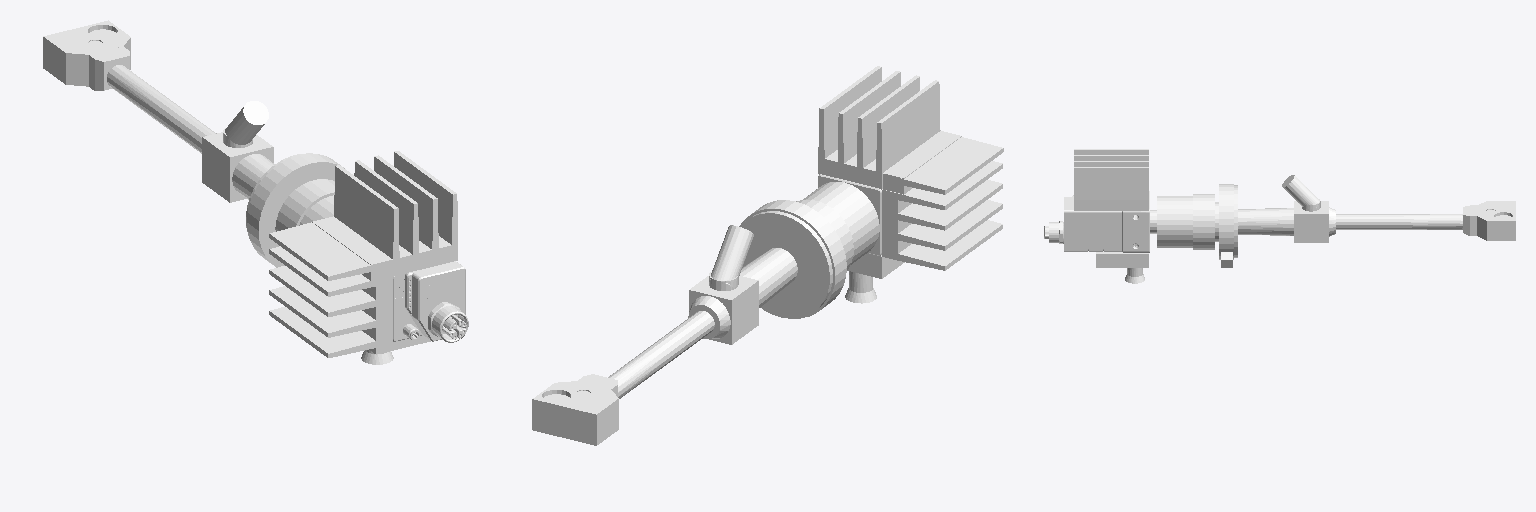
--- Facts derived from the render (not from the file) ---
Views: 3 orthographic renders of the robot side by side, from view 1: azimuth 30°, elevation 25°; view 2: azimuth 150°, elevation 25°; view 3: azimuth 270°, elevation 25°.
Robot: photonfocus_camera — 18 links, 17 joints (7 revolute, 10 fixed); root link world; default pose: all joints at 0.
Links seen in each view (by area): view 1: lbr_link_1, lbr_link_2; view 2: lbr_link_1, lbr_link_2; view 3: lbr_link_2, lbr_link_1.
Link boxes in pixels (x1,y1,x2,y2): lbr_link_1: (269, 151, 468, 364); lbr_link_2: (43, 20, 344, 267); lbr_link_1: (818, 66, 1003, 303); lbr_link_2: (532, 182, 879, 445); lbr_link_2: (1150, 175, 1515, 267); lbr_link_1: (1044, 149, 1149, 283).
Bounding box of the posed robot: 71.66 × 297 × 143 m (x, y, z).
10 mesh visuals loaded from 16 distinct referenced files (10 binary STL); not drawn: 6 (reference not matched to a file when rendering).

robot.urdf — photonfocus_camera:
<?xml version="1.0" ?>
<!-- =================================================================================== -->
<!-- |    This document was autogenerated by xacro from [local-path]/fri_ros_ws/src/HSI/med7PF_description/urdf/lbr_photonfocus_camera.urdf.xacro | -->
<!-- |    EDITING THIS FILE BY HAND IS NOT RECOMMENDED                                 | -->
<!-- =================================================================================== -->
<!-- Here we define the robot, we named it "photonfocus_camera" -->
<robot name="photonfocus_camera">
  <material name="silver">
    <color rgba="0.700 0.700 0.700 1.000"/>
  </material>
  <gazebo>
    <plugin filename="libgazebo_ros_control.so" name="control"/>
  </gazebo>
  <gazebo reference="base_link">
    <material>Gazebo/Silver</material>
    <mu1>0.2</mu1>
    <mu2>0.2</mu2>
    <selfCollide>true</selfCollide>
    <gravity>true</gravity>
  </gazebo>
  <gazebo reference="Component8_1_1_1_1">
    <material>Gazebo/Silver</material>
    <mu1>0.2</mu1>
    <mu2>0.2</mu2>
    <selfCollide>true</selfCollide>
  </gazebo>
  <gazebo reference="Component7_1_1_1_1">
    <material>Gazebo/Silver</material>
    <mu1>0.2</mu1>
    <mu2>0.2</mu2>
    <selfCollide>true</selfCollide>
  </gazebo>
  <gazebo reference="Component6_1_1_1_1">
    <material>Gazebo/Silver</material>
    <mu1>0.2</mu1>
    <mu2>0.2</mu2>
    <selfCollide>true</selfCollide>
  </gazebo>
  <gazebo reference="Component2_1_1_1_1">
    <material>Gazebo/Silver</material>
    <mu1>0.2</mu1>
    <mu2>0.2</mu2>
    <selfCollide>true</selfCollide>
  </gazebo>
  <gazebo reference="Component3_1_1_1_1">
    <material>Gazebo/Silver</material>
    <mu1>0.2</mu1>
    <mu2>0.2</mu2>
    <selfCollide>true</selfCollide>
  </gazebo>
  <gazebo reference="Component4_1_1_1_1">
    <material>Gazebo/Silver</material>
    <mu1>0.2</mu1>
    <mu2>0.2</mu2>
    <selfCollide>true</selfCollide>
  </gazebo>
  <gazebo reference="Component5_1_1_1_1">
    <material>Gazebo/Silver</material>
    <mu1>0.2</mu1>
    <mu2>0.2</mu2>
    <selfCollide>true</selfCollide>
  </gazebo>
  <!-- fix to world -->
  <link name="world"/>
  <!--joint between {parent} and link_0-->
  <joint name="world_lbr_joint" type="fixed">
    <origin rpy="0 0 0" xyz="0 0 0"/>
    <parent link="world"/>
    <child link="lbr_link_0"/>
  </joint>
  <link name="lbr_link_0">
    <inertial>
      <origin rpy="0 0 0" xyz="-0.0018958727522859222 -8.736009549202623e-09 0.07626305487275586"/>
      <mass value="46.20540698229506"/>
      <inertia ixx="0.250291" ixy="-0.0" ixz="-0.004435" iyy="0.255257" iyz="-0.0" izz="0.351803"/>
    </inertial>
    <visual>
      <origin rpy="0 0 0" xyz="0 0 0"/>
      <geometry>
        <mesh filename="package://lbr_description/meshes/med7/visual/link_0.stl"/>
      </geometry>
      <material name="white">
        <color rgba="1.0 1.0 1.0 1.0"/>
      </material>
    </visual>
    <collision>
      <origin rpy="0 0 0" xyz="0 0 0"/>
      <geometry>
        <mesh filename="package://lbr_description/meshes/med7/collision/link_0.stl"/>
      </geometry>
    </collision>
  </link>
  <joint name="lbr_joint_1" type="revolute">
    <origin rpy="0 0 0" xyz="0.0 0.0 0.1475"/>
    <parent link="lbr_link_0"/>
    <child link="lbr_link_1"/>
    <axis xyz="0.0 0.0 0.01"/>
    <limit effort="300" lower="-2.9670597283903604" upper="2.9670597283903604" velocity="10"/>
    <safety_controller k_position="100" k_velocity="2" soft_lower_limit="-2.9321531433504737" soft_upper_limit="2.9321531433504737"/>
    <dynamics damping="0.5"/>
  </joint>
  <link name="lbr_link_1">
    <inertial>
      <origin rpy="0 0 0" xyz="5.010328793588479e-08 -0.03481903813472808 0.12329857163085542"/>
      <mass value="21.161828997118327"/>
      <inertia ixx="0.133324" ixy="-0.0" ixz="0.0" iyy="0.127214" iyz="0.023673" izz="0.047155"/>
    </inertial>
    <visual>
      <origin rpy="0 0 0" xyz="-0.0 0.0 -0.1475"/>
      <geometry>
        <mesh filename="package://lbr_description/meshes/med7/visual/link_1.stl"/>
      </geometry>
      <material name="white">
        <color rgba="1.0 1.0 1.0 1.0"/>
      </material>
    </visual>
    <collision>
      <origin rpy="0 0 0" xyz="-0.0 0.0 -0.1475"/>
      <geometry>
        <mesh filename="package://lbr_description/meshes/med7/collision/link_1.stl"/>
      </geometry>
    </collision>
  </link>
  <joint name="lbr_joint_2" type="revolute">
    <origin rpy="0 0 0" xyz="-0.0 -0.0105 0.1925"/>
    <parent link="lbr_link_1"/>
    <child link="lbr_link_2"/>
    <axis xyz="0.0 0.01 0.0"/>
    <limit effort="300" lower="-2.0943951023931953" upper="2.0943951023931953" velocity="10"/>
    <safety_controller k_position="100" k_velocity="2" soft_lower_limit="-2.0594885173533086" soft_upper_limit="2.0594885173533086"/>
    <dynamics damping="0.5"/>
  </joint>
  <link name="lbr_link_2">
    <inertial>
      <origin rpy="0 0 0" xyz="2.958275959973659e-08 0.03979295468456965 0.08694361150855662"/>
      <mass value="25.13966081800886"/>
      <inertia ixx="0.19763" ixy="-0.0" ixz="0.0" iyy="0.187553" iyz="0.036718" izz="0.060269"/>
    </inertial>
    <visual>
      <origin rpy="0 0 0" xyz="0.0 0.0105 -0.34"/>
      <geometry>
        <mesh filename="package://lbr_description/meshes/med7/visual/link_2.stl"/>
      </geometry>
      <material name="white">
        <color rgba="1.0 1.0 1.0 1.0"/>
      </material>
    </visual>
    <collision>
      <origin rpy="0 0 0" xyz="0.0 0.0105 -0.34"/>
      <geometry>
        <mesh filename="package://lbr_description/meshes/med7/collision/link_2.stl"/>
      </geometry>
    </collision>
  </link>
  <joint name="lbr_joint_3" type="revolute">
    <origin rpy="0 0 0" xyz="0.0 0.0105 0.2075"/>
    <parent link="lbr_link_2"/>
    <child link="lbr_link_3"/>
    <axis xyz="0.0 0.0 0.01"/>
    <limit effort="300" lower="-2.9670597283903604" upper="2.9670597283903604" velocity="10"/>
    <safety_controller k_position="100" k_velocity="2" soft_lower_limit="-2.9321531433504737" soft_upper_limit="2.9321531433504737"/>
    <dynamics damping="0.5"/>
  </joint>
  <link name="lbr_link_3">
    <inertial>
      <origin rpy="0 0 0" xyz="-5.010330962930412e-08 0.03481903813473644 0.1232985716309013"/>
      <mass value="21.1618289971097"/>
      <inertia ixx="0.133324" ixy="-0.0" ixz="-0.0" iyy="0.127214" iyz="-0.023673" izz="0.047155"/>
    </inertial>
    <visual>
      <origin rpy="0 0 0" xyz="0.0 -0.0 -0.5475"/>
      <geometry>
        <mesh filename="package://lbr_description/meshes/med7/visual/link_3.stl"/>
      </geometry>
      <material name="white">
        <color rgba="1.0 1.0 1.0 1.0"/>
      </material>
    </visual>
    <collision>
      <origin rpy="0 0 0" xyz="0.0 -0.0 -0.5475"/>
      <geometry>
        <mesh filename="package://lbr_description/meshes/med7/collision/link_3.stl"/>
      </geometry>
    </collision>
  </link>
  <joint name="lbr_joint_4" type="revolute">
    <origin rpy="0 0 0" xyz="0.0 0.0105 0.1925"/>
    <parent link="lbr_link_3"/>
    <child link="lbr_link_4"/>
    <axis xyz="0.0 -0.01 0.0"/>
    <limit effort="300" lower="-2.0943951023931953" upper="2.0943951023931953" velocity="10"/>
    <safety_controller k_position="100" k_velocity="2" soft_lower_limit="-2.0594885173533086" soft_upper_limit="2.0594885173533086"/>
    <dynamics damping="0.5"/>
  </joint>
  <link name="lbr_link_4">
    <inertial>
      <origin rpy="0 0 0" xyz="-3.025230048709993e-08 -0.03979329512443697 0.08694363375610437"/>
      <mass value="25.139648831600116"/>
      <inertia ixx="0.197618" ixy="-0.0" ixz="-0.0" iyy="0.187546" iyz="-0.036716" izz="0.060263"/>
    </inertial>
    <visual>
      <origin rpy="0 0 0" xyz="-0.0 -0.0105 -0.74"/>
      <geometry>
        <mesh filename="package://lbr_description/meshes/med7/visual/link_4.stl"/>
      </geometry>
      <material name="white">
        <color rgba="1.0 1.0 1.0 1.0"/>
      </material>
    </visual>
    <collision>
      <origin rpy="0 0 0" xyz="-0.0 -0.0105 -0.74"/>
      <geometry>
        <mesh filename="package://lbr_description/meshes/med7/collision/link_4.stl"/>
      </geometry>
    </collision>
  </link>
  <joint name="lbr_joint_5" type="revolute">
    <origin rpy="0 0 0" xyz="-0.0 -0.0105 0.2075"/>
    <parent link="lbr_link_4"/>
    <child link="lbr_link_5"/>
    <axis xyz="0.0 0.0 0.01"/>
    <limit effort="300" lower="-2.9670597283903604" upper="2.9670597283903604" velocity="10"/>
    <safety_controller k_position="100" k_velocity="2" soft_lower_limit="-2.9321531433504737" soft_upper_limit="2.9321531433504737"/>
    <dynamics damping="0.5"/>
  </joint>
  <link name="lbr_link_5">
    <inertial>
      <origin rpy="0 0 0" xyz="3.887174133882675e-08 -0.02982428408876193 0.07626701716135398"/>
      <mass value="9.534880920206515"/>
      <inertia ixx="0.052905" ixy="0.0" ixz="-0.0" iyy="0.044495" iyz="0.017493" izz="0.023991"/>
    </inertial>
    <visual>
      <origin rpy="0 0 0" xyz="0.0 0.0 -0.9475"/>
      <geometry>
        <mesh filename="package://lbr_description/meshes/med7/visual/link_5.stl"/>
      </geometry>
      <material name="white">
        <color rgba="1.0 1.0 1.0 1.0"/>
      </material>
    </visual>
    <collision>
      <origin rpy="0 0 0" xyz="0.0 0.0 -0.9475"/>
      <geometry>
        <mesh filename="package://lbr_description/meshes/med7/collision/link_5.stl"/>
      </geometry>
    </collision>
  </link>
  <joint name="lbr_joint_6" type="revolute">
    <origin rpy="0 0 0" xyz="0.0 -0.0707 0.1925"/>
    <parent link="lbr_link_5"/>
    <child link="lbr_link_6"/>
    <axis xyz="0.0 0.01 0.0"/>
    <limit effort="300" lower="-2.0943951023931953" upper="2.0943951023931953" velocity="10"/>
    <safety_controller k_position="100" k_velocity="2" soft_lower_limit="-2.0594885173533086" soft_upper_limit="2.0594885173533086"/>
    <dynamics damping="0.5"/>
  </joint>
  <link name="lbr_link_6">
    <inertial>
      <origin rpy="0 0 0" xyz="-7.073221144775636e-07 0.07101990943401648 0.004952526180360017"/>
      <mass value="14.987109331100873"/>
      <inertia ixx="0.044068" ixy="-0.0" ixz="1e-06" iyy="0.042427" iyz="0.001941" izz="0.028865"/>
    </inertial>
    <visual>
      <origin rpy="0 0 0" xyz="0.0 0.0707 -1.14"/>
      <geometry>
        <mesh filename="package://lbr_description/meshes/med7/visual/link_6.stl"/>
      </geometry>
      <material name="white">
        <color rgba="1.0 1.0 1.0 1.0"/>
      </material>
    </visual>
    <collision>
      <origin rpy="0 0 0" xyz="0.0 0.0707 -1.14"/>
      <geometry>
        <mesh filename="package://lbr_description/meshes/med7/collision/link_6.stl"/>
      </geometry>
    </collision>
  </link>
  <joint name="lbr_joint_7" type="revolute">
    <origin rpy="0 0 0" xyz="0.0 0.0707 0.091"/>
    <parent link="lbr_link_6"/>
    <child link="lbr_link_7"/>
    <axis xyz="0.0 0.0 0.01"/>
    <limit effort="300" lower="-3.0543261909900763" upper="3.0543261909900763" velocity="10"/>
    <safety_controller k_position="100" k_velocity="2" soft_lower_limit="-3.01941960595019" soft_upper_limit="3.01941960595019"/>
    <dynamics damping="0.5"/>
  </joint>
  <link name="lbr_link_7">
    <inertial>
      <origin rpy="0 0 0" xyz="3.1218274599808524e-06 -1.6358155634513969e-06 0.013782295521067356"/>
      <mass value="1.6178339975962697"/>
      <inertia ixx="0.001066" ixy="0.0" ixz="-0.0" iyy="0.001066" iyz="0.0" izz="0.001864"/>
    </inertial>
    <visual>
      <origin rpy="0 0 0" xyz="-0.0 -0.0 -1.231"/>
      <geometry>
        <mesh filename="package://lbr_description/meshes/med7/visual/link_7.stl"/>
      </geometry>
      <material name="silver">
        <color rgba="0.7 0.7 0.7 1.0"/>
      </material>
    </visual>
    <collision>
      <origin rpy="0 0 0" xyz="-0.0 -0.0 -1.231"/>
      <geometry>
        <mesh filename="package://lbr_description/meshes/med7/collision/link_7.stl"/>
      </geometry>
    </collision>
  </link>
  <joint name="lbr_joint_ee" type="fixed">
    <parent link="lbr_link_7"/>
    <child link="lbr_link_ee"/>
    <origin rpy="0 0 0" xyz="0 0 0.035"/>
  </joint>
  <link name="lbr_link_ee">
        </link>
  <!-- ros_control-plugin -->
  <gazebo>
    <plugin filename="libgazebo_ros_control.so" name="gazebo_ros_control">
      <robotNamespace>/lbr</robotNamespace>
    </plugin>
  </gazebo>
  <!-- link 0 -->
  <gazebo reference="lbr_link_0">
    <mu1>0.2</mu1>
    <mu2>0.2</mu2>
    <material>Gazebo/White</material>
  </gazebo>
  <!-- link 1 -->
  <gazebo reference="lbr_link_1">
    <mu1>0.2</mu1>
    <mu2>0.2</mu2>
    <material>Gazebo/White</material>
  </gazebo>
  <!-- link 2 -->
  <gazebo reference="lbr_link_2">
    <mu1>0.2</mu1>
    <mu2>0.2</mu2>
    <material>Gazebo/White</material>
  </gazebo>
  <!-- link 3 -->
  <gazebo reference="lbr_link_3">
    <mu1>0.2</mu1>
    <mu2>0.2</mu2>
    <material>Gazebo/White</material>
  </gazebo>
  <!-- link 4 -->
  <gazebo reference="lbr_link_4">
    <mu1>0.2</mu1>
    <mu2>0.2</mu2>
    <material>Gazebo/White</material>
  </gazebo>
  <!-- link 5 -->
  <gazebo reference="lbr_link_5">
    <mu1>0.2</mu1>
    <mu2>0.2</mu2>
    <material>Gazebo/White</material>
  </gazebo>
  <!-- link 6 -->
  <gazebo reference="lbr_link_6">
    <mu1>0.2</mu1>
    <mu2>0.2</mu2>
    <material>Gazebo/White</material>
  </gazebo>
  <!-- link 7 -->
  <gazebo reference="lbr_link_7">
    <mu1>0.2</mu1>
    <mu2>0.2</mu2>
    <material>Gazebo/Grey</material>
  </gazebo>
  <!-- joint 1 -->
  <transmission name="lbr_tran_1">
    <robotNamespace>/lbr</robotNamespace>
    <type>transmission_interface/SimpleTransmission</type>
    <joint name="lbr_joint_1">
      <hardwareInterface>hardware_interface/PositionJointInterface</hardwareInterface>
    </joint>
    <actuator name="lbr_motor_1">
      <hardwareInterface>hardware_interface/PositionJointInterface</hardwareInterface>
      <mechanicalReduction>1</mechanicalReduction>
    </actuator>
  </transmission>
  <!-- joint 2 -->
  <transmission name="lbr_tran_2">
    <robotNamespace>/lbr</robotNamespace>
    <type>transmission_interface/SimpleTransmission</type>
    <joint name="lbr_joint_2">
      <hardwareInterface>hardware_interface/PositionJointInterface</hardwareInterface>
    </joint>
    <actuator name="lbr_motor_2">
      <hardwareInterface>hardware_interface/PositionJointInterface</hardwareInterface>
      <mechanicalReduction>1</mechanicalReduction>
    </actuator>
  </transmission>
  <!-- joint 3 -->
  <transmission name="lbr_tran_3">
    <robotNamespace>/lbr</robotNamespace>
    <type>transmission_interface/SimpleTransmission</type>
    <joint name="lbr_joint_3">
      <hardwareInterface>hardware_interface/PositionJointInterface</hardwareInterface>
    </joint>
    <actuator name="lbr_motor_3">
      <hardwareInterface>hardware_interface/PositionJointInterface</hardwareInterface>
      <mechanicalReduction>1</mechanicalReduction>
    </actuator>
  </transmission>
  <!-- joint 4 -->
  <transmission name="lbr_tran_4">
    <robotNamespace>/lbr</robotNamespace>
    <type>transmission_interface/SimpleTransmission</type>
    <joint name="lbr_joint_4">
      <hardwareInterface>hardware_interface/PositionJointInterface</hardwareInterface>
    </joint>
    <actuator name="lbr_motor_4">
      <hardwareInterface>hardware_interface/PositionJointInterface</hardwareInterface>
      <mechanicalReduction>1</mechanicalReduction>
    </actuator>
  </transmission>
  <!-- joint 5 -->
  <transmission name="lbr_tran_5">
    <robotNamespace>/lbr</robotNamespace>
    <type>transmission_interface/SimpleTransmission</type>
    <joint name="lbr_joint_5">
      <hardwareInterface>hardware_interface/PositionJointInterface</hardwareInterface>
    </joint>
    <actuator name="lbr_motor_5">
      <hardwareInterface>hardware_interface/PositionJointInterface</hardwareInterface>
      <mechanicalReduction>1</mechanicalReduction>
    </actuator>
  </transmission>
  <!-- joint 6 -->
  <transmission name="lbr_tran_6">
    <robotNamespace>/lbr</robotNamespace>
    <type>transmission_interface/SimpleTransmission</type>
    <joint name="lbr_joint_6">
      <hardwareInterface>hardware_interface/PositionJointInterface</hardwareInterface>
    </joint>
    <actuator name="lbr_motor_6">
      <hardwareInterface>hardware_interface/PositionJointInterface</hardwareInterface>
      <mechanicalReduction>1</mechanicalReduction>
    </actuator>
  </transmission>
  <!-- joint 7 -->
  <transmission name="lbr_tran_7">
    <robotNamespace>/lbr</robotNamespace>
    <type>transmission_interface/SimpleTransmission</type>
    <joint name="lbr_joint_7">
      <hardwareInterface>hardware_interface/PositionJointInterface</hardwareInterface>
    </joint>
    <actuator name="lbr_motor_7">
      <hardwareInterface>hardware_interface/PositionJointInterface</hardwareInterface>
      <mechanicalReduction>1</mechanicalReduction>
    </actuator>
  </transmission>
  <link name="base_link">
    <inertial>
      <origin rpy="0 0 0" xyz="1.7763568394002505e-17 3.552713678800501e-17 0.0046742040606025685"/>
      <mass value="0.20307198484404515"/>
      <inertia ixx="4.8e-05" ixy="0.0" ixz="0.0" iyy="4.8e-05" iyz="0.0" izz="9.4e-05"/>
    </inertial>
    <visual>
      <origin rpy="0 0 0" xyz="0 0 0"/>
      <geometry>
        <mesh filename="package://photonfocus_camera_description/meshes/base_link.stl" scale="0.001 0.001 0.001"/>
      </geometry>
      <material name="silver"/>
    </visual>
    <collision>
      <origin rpy="0 0 0" xyz="0 0 0"/>
      <geometry>
        <mesh filename="package://photonfocus_camera_description/meshes/base_link.stl" scale="0.001 0.001 0.001"/>
      </geometry>
    </collision>
  </link>
  <link name="Component8_1_1_1_1">
    <inertial>
      <origin rpy="0 0 0" xyz="0.006675819379415325 -0.0009462499931954823 0.025261336246706647"/>
      <mass value="0.1997581385630358"/>
      <inertia ixx="4.8e-05" ixy="-0.0" ixz="-2e-06" iyy="5.1e-05" iyz="-0.0" izz="1.8e-05"/>
    </inertial>
    <visual>
      <origin rpy="0 0 0" xyz="0.005763 -0.000949 -0.009647"/>
      <geometry>
        <mesh filename="package://photonfocus_camera_description/meshes/Component8_1_1_1_1.stl" scale="0.001 0.001 0.001"/>
      </geometry>
      <material name="silver"/>
    </visual>
    <collision>
      <origin rpy="0 0 0" xyz="0.005763 -0.000949 -0.009647"/>
      <geometry>
        <mesh filename="package://photonfocus_camera_description/meshes/Component8_1_1_1_1.stl" scale="0.001 0.001 0.001"/>
      </geometry>
    </collision>
  </link>
  <link name="Component7_1_1_1_1">
    <inertial>
      <origin rpy="0 0 0" xyz="0.00576299999995598 -0.0009489999999999939 0.006999172477632563"/>
      <mass value="0.010061892950917101"/>
      <inertia ixx="0.0" ixy="0.0" ixz="-0.0" iyy="0.0" iyz="0.0" izz="0.0"/>
    </inertial>
    <visual>
      <origin rpy="0 0 0" xyz="0.005763 -0.000949 -0.059647"/>
      <geometry>
        <mesh filename="package://photonfocus_camera_description/meshes/Component7_1_1_1_1.stl" scale="0.001 0.001 0.001"/>
      </geometry>
      <material name="silver"/>
    </visual>
    <collision>
      <origin rpy="0 0 0" xyz="0.005763 -0.000949 -0.059647"/>
      <geometry>
        <mesh filename="package://photonfocus_camera_description/meshes/Component7_1_1_1_1.stl" scale="0.001 0.001 0.001"/>
      </geometry>
    </collision>
  </link>
  <link name="Component6_1_1_1_1">
    <inertial>
      <origin rpy="0 0 0" xyz="0.005761639433104251 -0.009116655198803872 0.0050873760786627475"/>
      <mass value="0.07190809365548972"/>
      <inertia ixx="8e-06" ixy="0.0" ixz="-0.0" iyy="6e-06" iyz="-0.0" izz="1.3e-05"/>
    </inertial>
    <visual>
      <origin rpy="0 0 0" xyz="0.005763 -0.000949 -0.074647"/>
      <geometry>
        <mesh filename="package://photonfocus_camera_description/meshes/Component6_1_1_1_1.stl" scale="0.001 0.001 0.001"/>
      </geometry>
      <material name="silver"/>
    </visual>
    <collision>
      <origin rpy="0 0 0" xyz="0.005763 -0.000949 -0.074647"/>
      <geometry>
        <mesh filename="package://photonfocus_camera_description/meshes/Component6_1_1_1_1.stl" scale="0.001 0.001 0.001"/>
      </geometry>
    </collision>
  </link>
  <link name="Component2_1_1_1_1">
    <inertial>
      <origin rpy="0 0 0" xyz="-0.0012599221198894494 -0.019570473272113073 0.014158631511927311"/>
      <mass value="0.1371138450645388"/>
      <inertia ixx="6.1e-05" ixy="3e-06" ixz="0.0" iyy="2.8e-05" iyz="-3e-06" izz="6.1e-05"/>
    </inertial>
    <visual>
      <origin rpy="0 0 0" xyz="-0.002737 -0.000949 -0.084647"/>
      <geometry>
        <mesh filename="package://photonfocus_camera_description/meshes/Component2_1_1_1_1.stl" scale="0.001 0.001 0.001"/>
      </geometry>
      <material name="silver"/>
    </visual>
    <collision>
      <origin rpy="0 0 0" xyz="-0.002737 -0.000949 -0.084647"/>
      <geometry>
        <mesh filename="package://photonfocus_camera_description/meshes/Component2_1_1_1_1.stl" scale="0.001 0.001 0.001"/>
      </geometry>
    </collision>
  </link>
  <link name="Component3_1_1_1_1">
    <inertial>
      <origin rpy="0 0 0" xyz="-0.017468336612135094 -0.03067971553276897 0.0131744579556861"/>
      <mass value="0.37244365260000467"/>
      <inertia ixx="0.000149" ixy="1e-06" ixz="-5e-05" iyy="0.000171" iyz="1e-06" izz="0.000158"/>
    </inertial>
    <visual>
      <origin rpy="0 0 0" xyz="-0.003122 -0.015981 -0.099947"/>
      <geometry>
        <mesh filename="package://photonfocus_camera_description/meshes/Component3_1_1_1_1.stl" scale="0.001 0.001 0.001"/>
      </geometry>
      <material name="silver"/>
    </visual>
    <collision>
      <origin rpy="0 0 0" xyz="-0.003122 -0.015981 -0.099947"/>
      <geometry>
        <mesh filename="package://photonfocus_camera_description/meshes/Component3_1_1_1_1.stl" scale="0.001 0.001 0.001"/>
      </geometry>
    </collision>
  </link>
  <link name="Component4_1_1_1_1">
    <inertial>
      <origin rpy="0 0 0" xyz="-0.0031593464532001414 -0.07800866004916104 -0.0003471545903905998"/>
      <mass value="0.4535330539476499"/>
      <inertia ixx="0.000157" ixy="-1e-06" ixz="0.0" iyy="9.2e-05" iyz="2e-06" izz="0.000157"/>
    </inertial>
    <visual>
      <origin rpy="0 0 0" xyz="-0.003237 -0.120949 -0.099647"/>
      <geometry>
        <mesh filename="package://photonfocus_camera_description/meshes/Component4_1_1_1_1.stl" scale="0.001 0.001 0.001"/>
      </geometry>
      <material name="silver"/>
    </visual>
    <collision>
      <origin rpy="0 0 0" xyz="-0.003237 -0.120949 -0.099647"/>
      <geometry>
        <mesh filename="package://photonfocus_camera_description/meshes/Component4_1_1_1_1.stl" scale="0.001 0.001 0.001"/>
      </geometry>
    </collision>
  </link>
  <link name="Component5_1_1_1_1">
    <inertial>
      <origin rpy="0 0 0" xyz="-0.05872928812870342 0.14692321997662616 0.0013688335279802288"/>
      <mass value="0.29377075965242594"/>
      <inertia ixx="0.000983" ixy="-0.0" ixz="-0.0" iyy="2.2e-05" iyz="1.3e-05" izz="0.00098"/>
    </inertial>
    <visual>
      <origin rpy="0 0 0" xyz="-0.058737 -0.000949 -0.099647"/>
      <geometry>
        <mesh filename="package://photonfocus_camera_description/meshes/Component5_1_1_1_1.stl" scale="0.001 0.001 0.001"/>
      </geometry>
      <material name="silver"/>
    </visual>
    <collision>
      <origin rpy="0 0 0" xyz="-0.058737 -0.000949 -0.099647"/>
      <geometry>
        <mesh filename="package://photonfocus_camera_description/meshes/Component5_1_1_1_1.stl" scale="0.001 0.001 0.001"/>
      </geometry>
    </collision>
  </link>
  <joint name="base_joint" type="fixed">
    <origin rpy="0 0 0" xyz="0 0 0"/>
    <parent link="lbr_link_ee"/>
    <child link="base_link"/>
  </joint>
  <joint name="Rigid28" type="fixed">
    <origin rpy="0 0 0" xyz="-0.005763 0.000949 0.009647"/>
    <parent link="base_link"/>
    <child link="Component8_1_1_1_1"/>
  </joint>
  <joint name="Rigid29" type="fixed">
    <origin rpy="0 0 0" xyz="0.0 0.0 0.05"/>
    <parent link="Component8_1_1_1_1"/>
    <child link="Component7_1_1_1_1"/>
  </joint>
  <joint name="Rigid30" type="fixed">
    <origin rpy="0 0 0" xyz="0.0 0.0 0.015"/>
    <parent link="Component7_1_1_1_1"/>
    <child link="Component6_1_1_1_1"/>
  </joint>
  <joint name="Rigid31" type="fixed">
    <origin rpy="0 0 0" xyz="0.0085 0.0 0.01"/>
    <parent link="Component6_1_1_1_1"/>
    <child link="Component2_1_1_1_1"/>
  </joint>
  <joint name="Rigid32" type="fixed">
    <origin rpy="0 0 0" xyz="0.000385 0.015032 0.0153"/>
    <parent link="Component2_1_1_1_1"/>
    <child link="Component3_1_1_1_1"/>
  </joint>
  <joint name="Rigid33" type="fixed">
    <origin rpy="0 0 0" xyz="0.0005 0.12 0.015"/>
    <parent link="Component2_1_1_1_1"/>
    <child link="Component4_1_1_1_1"/>
  </joint>
  <joint name="Rigid34" type="fixed">
    <origin rpy="0 0 0" xyz="0.0555 -0.12 0.0"/>
    <parent link="Component4_1_1_1_1"/>
    <child link="Component5_1_1_1_1"/>
  </joint>
</robot>
